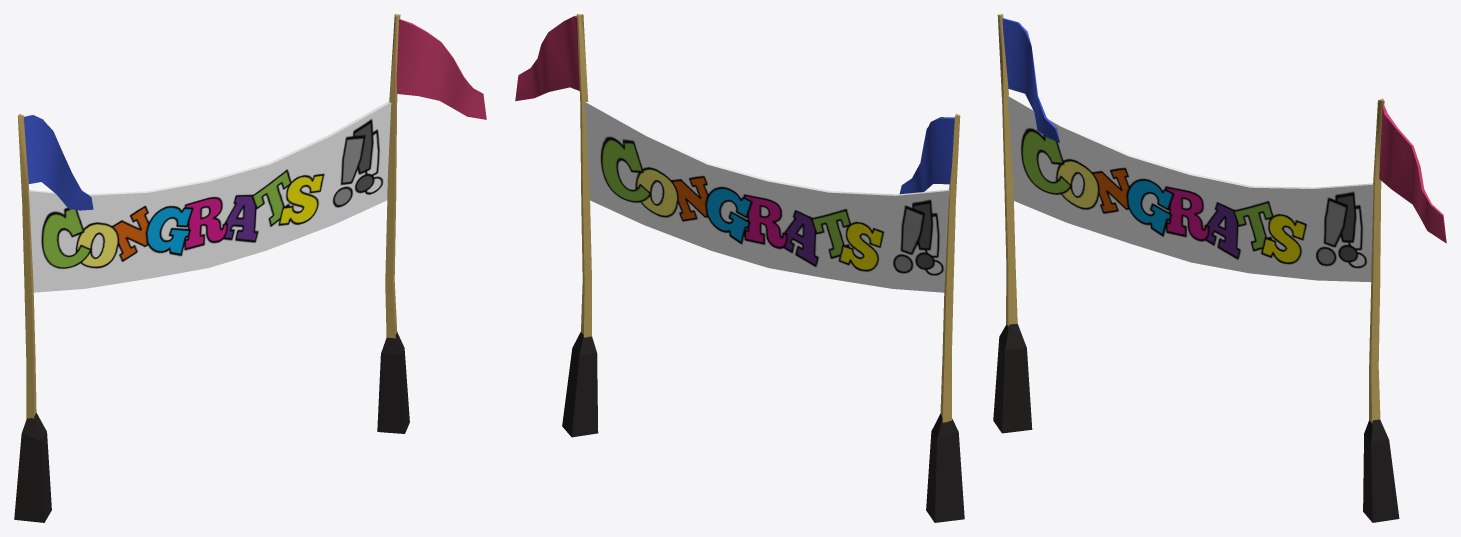
The model's file is Banner.FBX.
3 views of the same model, side by side, from view 1: azimuth 30°, elevation 25°; view 2: azimuth 150°, elevation 25°; view 3: azimuth 330°, elevation 25° (orthographic).
Parts seen in each view (by area): view 1: Box01, Object01, Object02, Line02; view 2: Box01, Object02, Object01, Line02; view 3: Box01, Object02, Object01, Line02.
Part boxes in pixels (x1,y1,x2,y2): Box01: (28,101,391,292); Object01: (24,19,486,210); Object02: (14,332,409,522); Line02: (17,14,400,419); Box01: (585,101,949,292); Object02: (562,332,964,522); Object01: (515,15,954,193); Line02: (577,14,960,422); Box01: (1007,94,1373,282); Object02: (993,323,1399,522); Object01: (1002,18,1446,243); Line02: (997,14,1384,423).
Bounding box in the file's own units: 129 × 110 × 12.42.
Materials: 5 (1 with a texture image).
